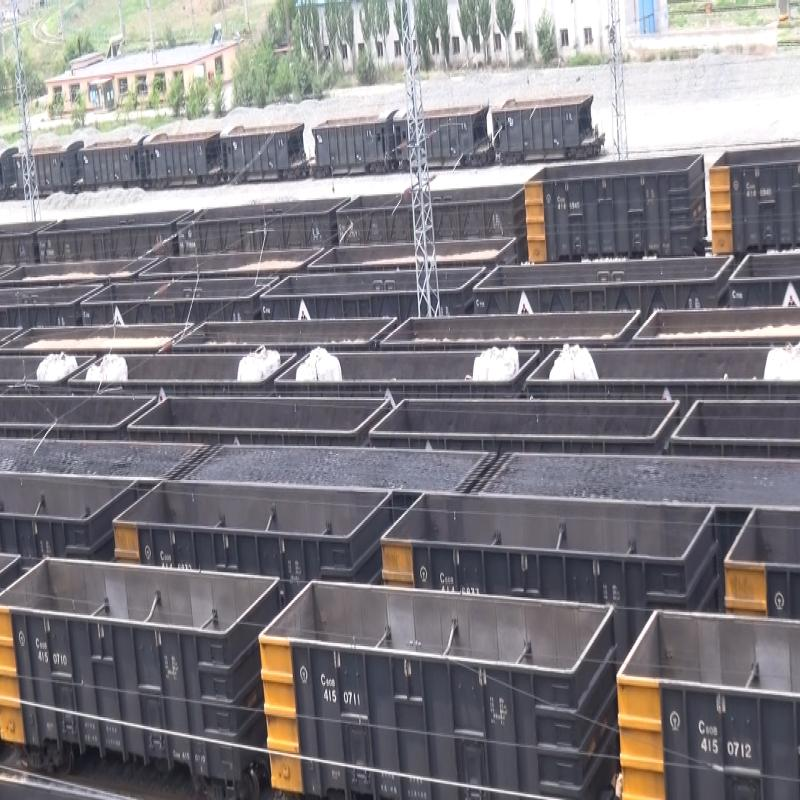train: (269, 576, 605, 800), (8, 566, 246, 781), (495, 99, 602, 161), (319, 121, 393, 174)
